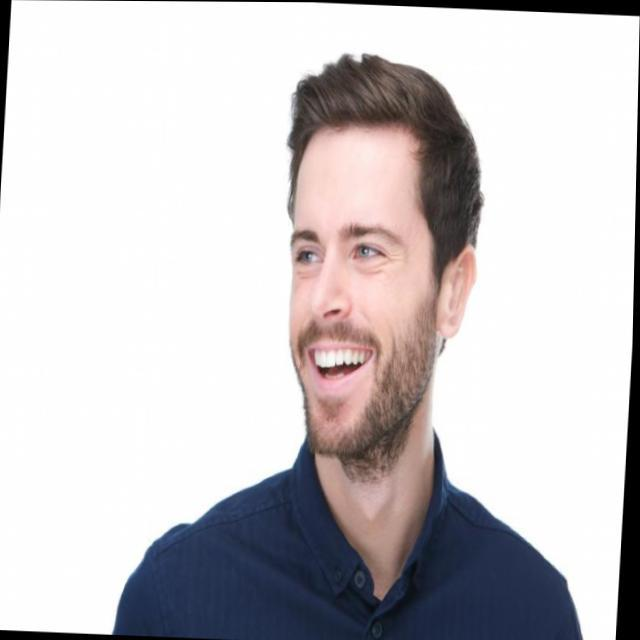Nonhelmet: (277, 49, 488, 475)
